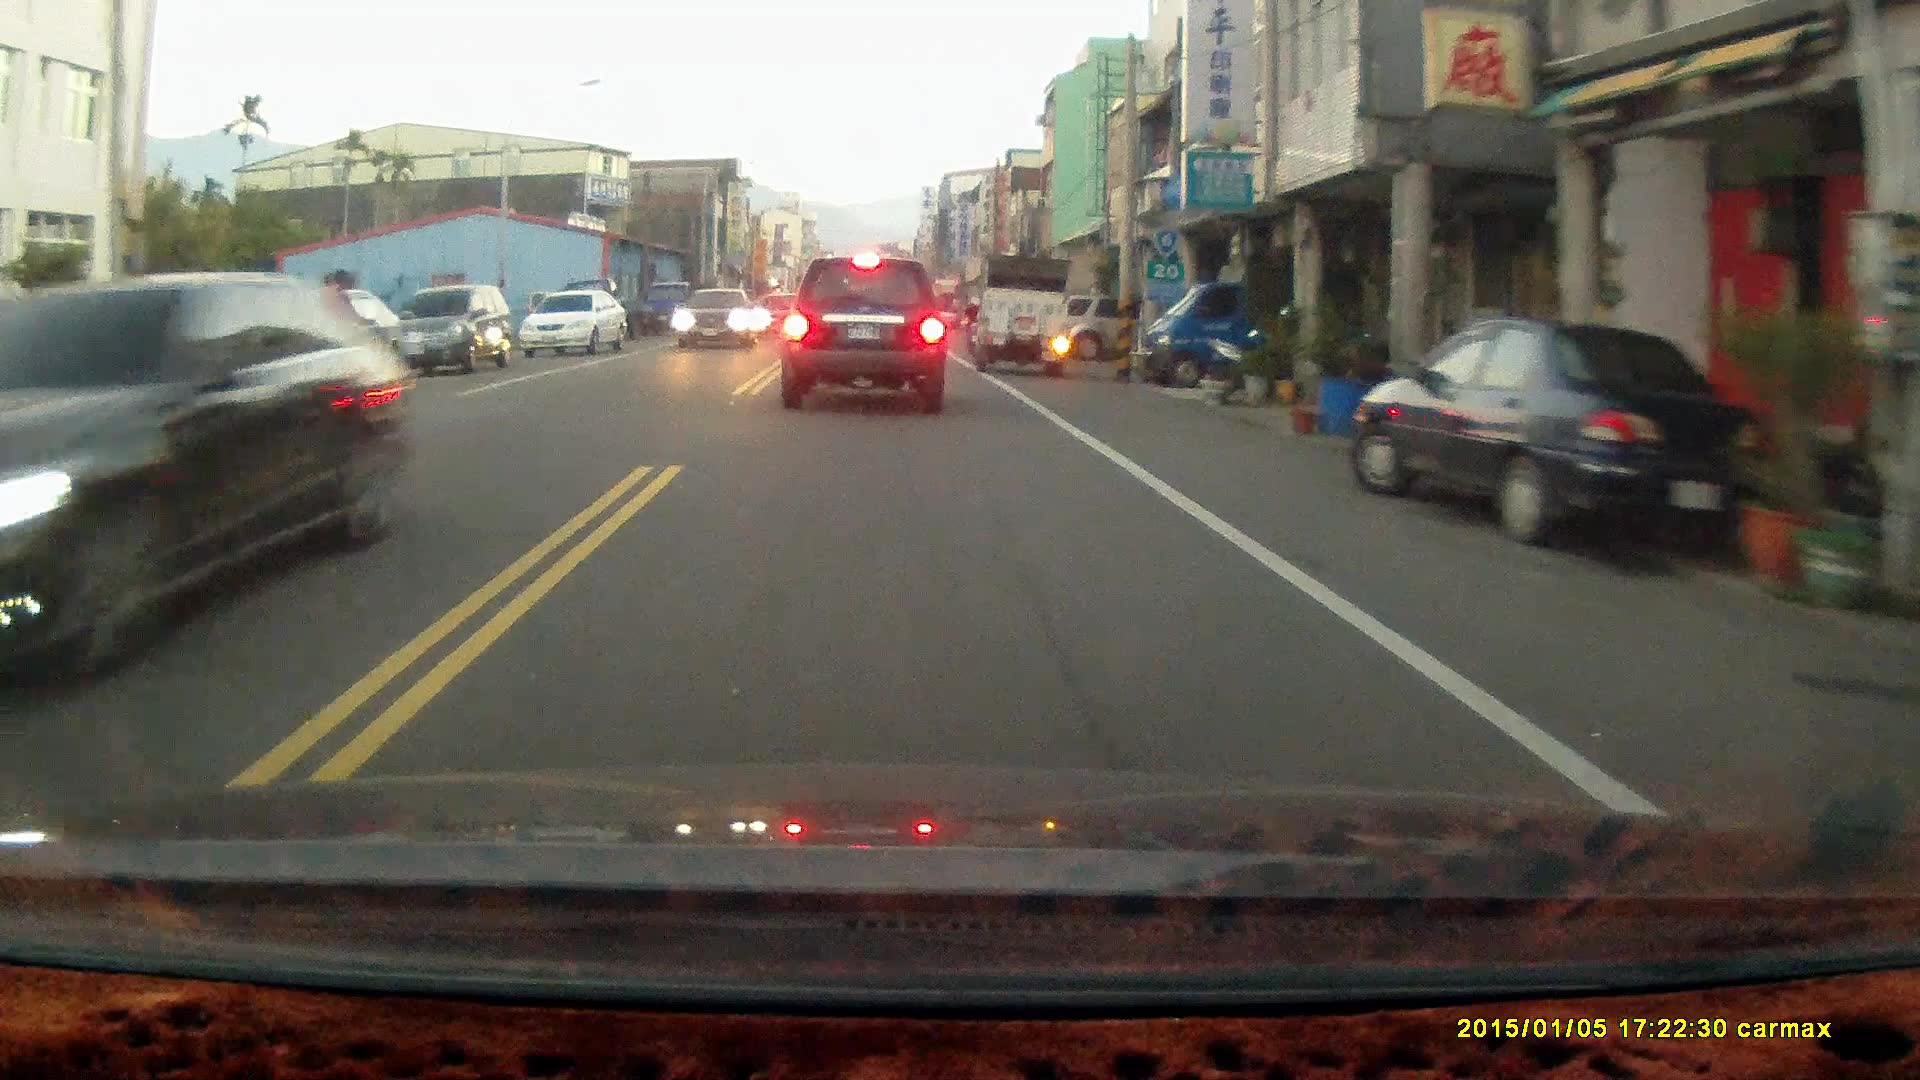vehicle: (1, 269, 417, 709), (1352, 318, 1797, 556), (782, 251, 949, 410), (222, 293, 415, 411), (1131, 255, 1292, 389), (382, 282, 518, 378), (975, 257, 1073, 376), (520, 289, 630, 360), (682, 289, 762, 349), (638, 280, 704, 340)
